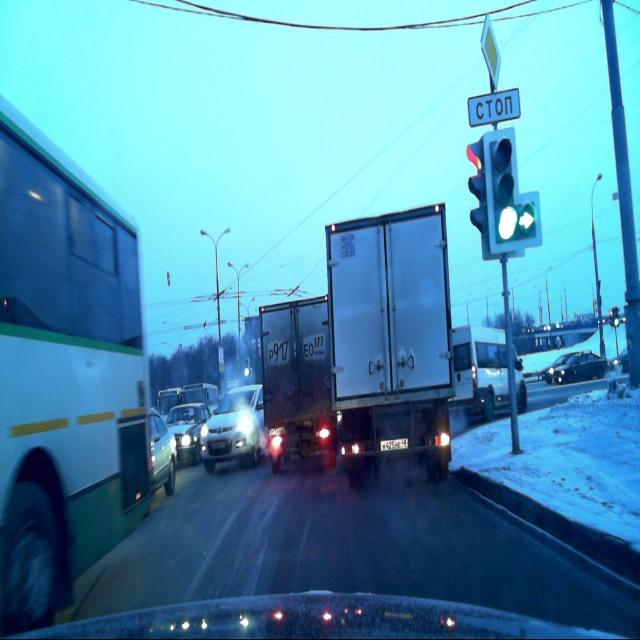object: (502, 259, 518, 453)
road sign: (468, 89, 521, 128), (482, 12, 502, 87)
